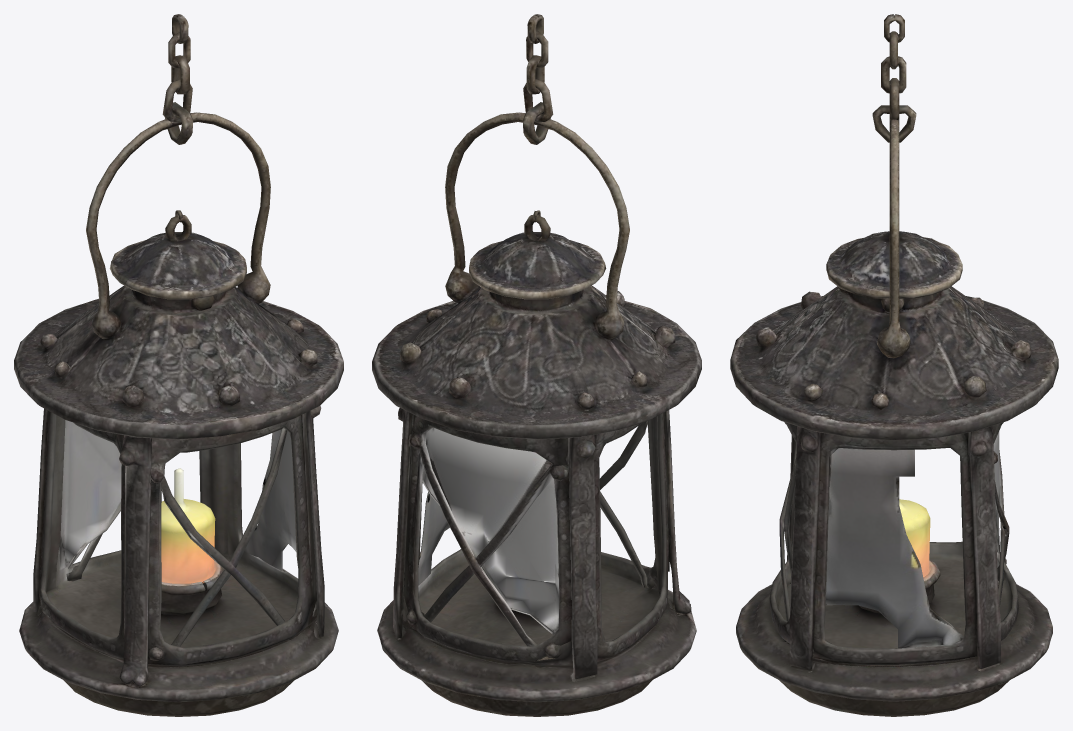
The model's file is lantern.glb.
3 renders of one model, left to right at view 1: azimuth 30°, elevation 25°; view 2: azimuth 150°, elevation 25°; view 3: azimuth 270°, elevation 25°, orthographic.
Visible parts, largest first — view 1: tripo_node_d393f895-68e0-45c9-9d80-2f2378fa58c7; view 2: tripo_node_d393f895-68e0-45c9-9d80-2f2378fa58c7; view 3: tripo_node_d393f895-68e0-45c9-9d80-2f2378fa58c7.
Part boxes in pixels (bbox=[...]): tripo_node_d393f895-68e0-45c9-9d80-2f2378fa58c7: bbox=[14, 14, 343, 716]; tripo_node_d393f895-68e0-45c9-9d80-2f2378fa58c7: bbox=[372, 14, 701, 716]; tripo_node_d393f895-68e0-45c9-9d80-2f2378fa58c7: bbox=[730, 14, 1058, 716].
Size of the model in its own units: 0.4458 by 0.9777 by 0.4458.
Materials: 1 (1 with a texture image).
